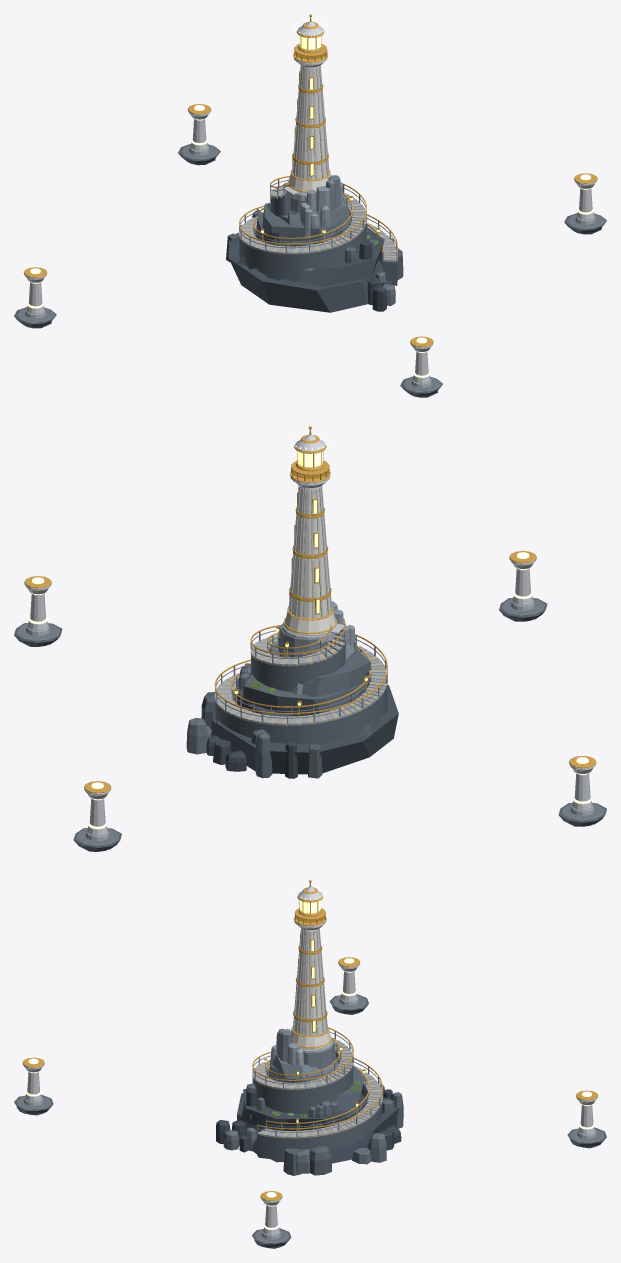
The model's file is beacon_web.glb.
3 views of the same model, one above another, from view 1: azimuth 30°, elevation 25°; view 2: azimuth 150°, elevation 25°; view 3: azimuth 270°, elevation 25° (orthographic). The views are drawn at different scales.
Parts seen in each view (by area): view 1: Beacon_Static, Totem_LinkedIn_Body, Totem_Resume_Body, Totem_Email_Body, Totem_GitHub_Body, Head_Housing; view 2: Beacon_Static, Totem_Email_Body, Totem_LinkedIn_Body, Totem_Resume_Body, Totem_GitHub_Body, Head_Housing; view 3: Beacon_Static, Totem_Resume_Body, Totem_LinkedIn_Body, Totem_GitHub_Body, Totem_Email_Body.
Part boxes in pixels (<box>): Beacon_Static: <box>226,44,403,312</box>; Totem_LinkedIn_Body: <box>14,267,56,328</box>; Totem_Resume_Body: <box>564,173,606,234</box>; Totem_Email_Body: <box>400,336,442,397</box>; Totem_GitHub_Body: <box>178,104,220,165</box>; Head_Housing: <box>296,14,324,53</box>; Beacon_Static: <box>186,460,398,778</box>; Totem_Email_Body: <box>499,551,547,621</box>; Totem_LinkedIn_Body: <box>558,756,606,826</box>; Totem_Resume_Body: <box>14,576,62,646</box>; Totem_GitHub_Body: <box>73,781,121,851</box>; Head_Housing: <box>294,426,326,471</box>; Beacon_Static: <box>216,908,403,1175</box>; Totem_Resume_Body: <box>252,1191,291,1248</box>; Totem_LinkedIn_Body: <box>329,957,368,1014</box>; Totem_GitHub_Body: <box>567,1090,606,1148</box>; Totem_Email_Body: <box>14,1057,53,1115</box>.
Size of the model in its own units: 54.99 by 26.45 by 55.18.
5 materials, 1 textured.
